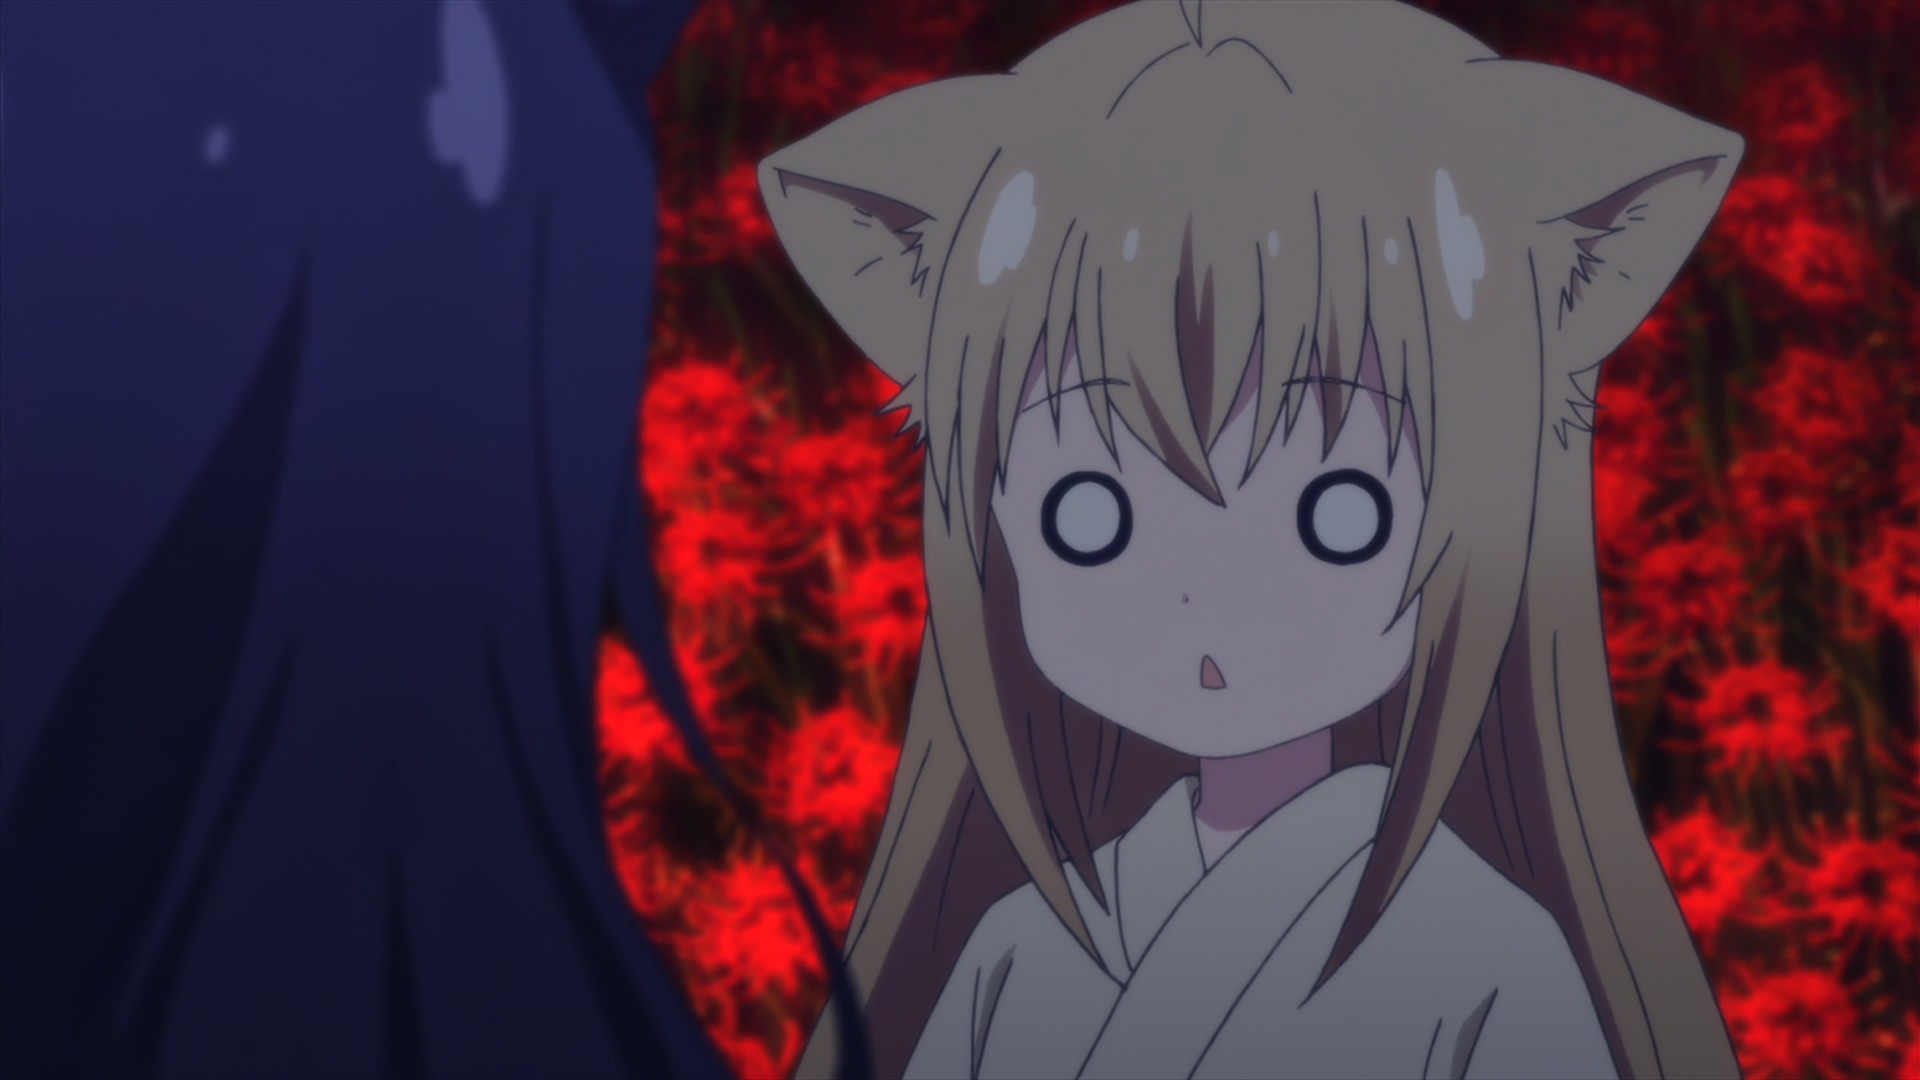柚: (754, 1, 1749, 1080)
皋: (1, 1, 868, 1080)
